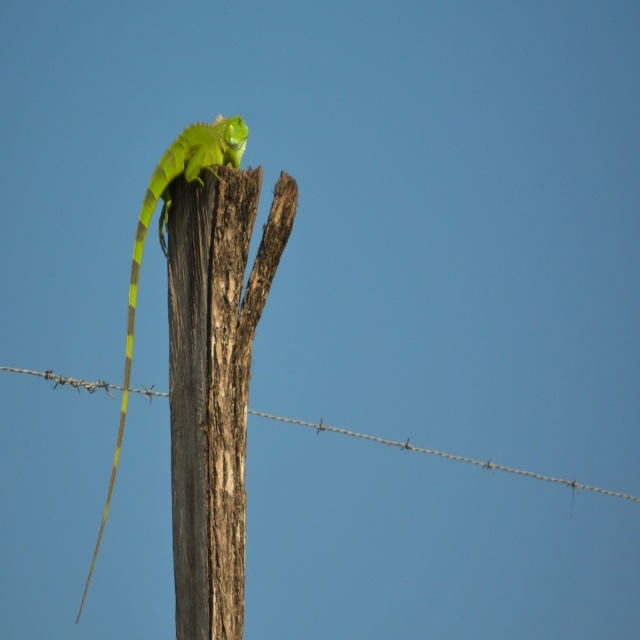Lizard: (96, 73, 305, 603)
